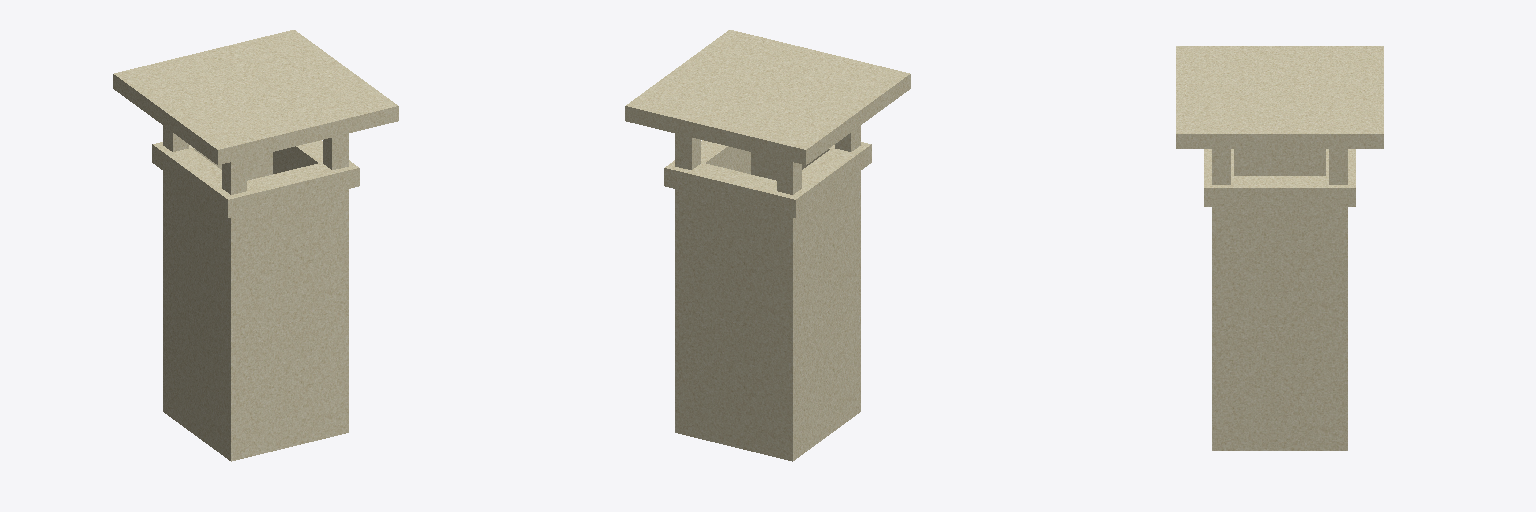
3 views of the same model, side by side, from view 1: azimuth 30°, elevation 25°; view 2: azimuth 150°, elevation 25°; view 3: azimuth 270°, elevation 25° (orthographic).
Parts seen in each view (by area): view 1: BaseChimney_Cube.002, topChimney_Cube.001; view 2: BaseChimney_Cube.002, topChimney_Cube.001; view 3: BaseChimney_Cube.002, topChimney_Cube.001.
Boxes of the visible parts, x1,y1,x2,y2 form: BaseChimney_Cube.002: [163, 151, 348, 461]; topChimney_Cube.001: [113, 30, 398, 217]; BaseChimney_Cube.002: [675, 151, 860, 461]; topChimney_Cube.001: [625, 30, 910, 217]; BaseChimney_Cube.002: [1212, 155, 1347, 450]; topChimney_Cube.001: [1176, 46, 1383, 206].
Size of the model in its own units: 67.32 by 118 by 67.32.
2 materials, 1 textured.